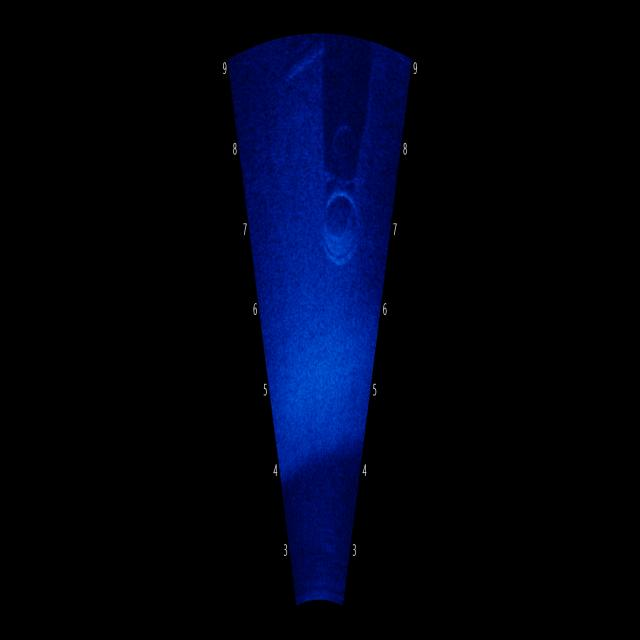circle: (307, 169, 366, 298)
